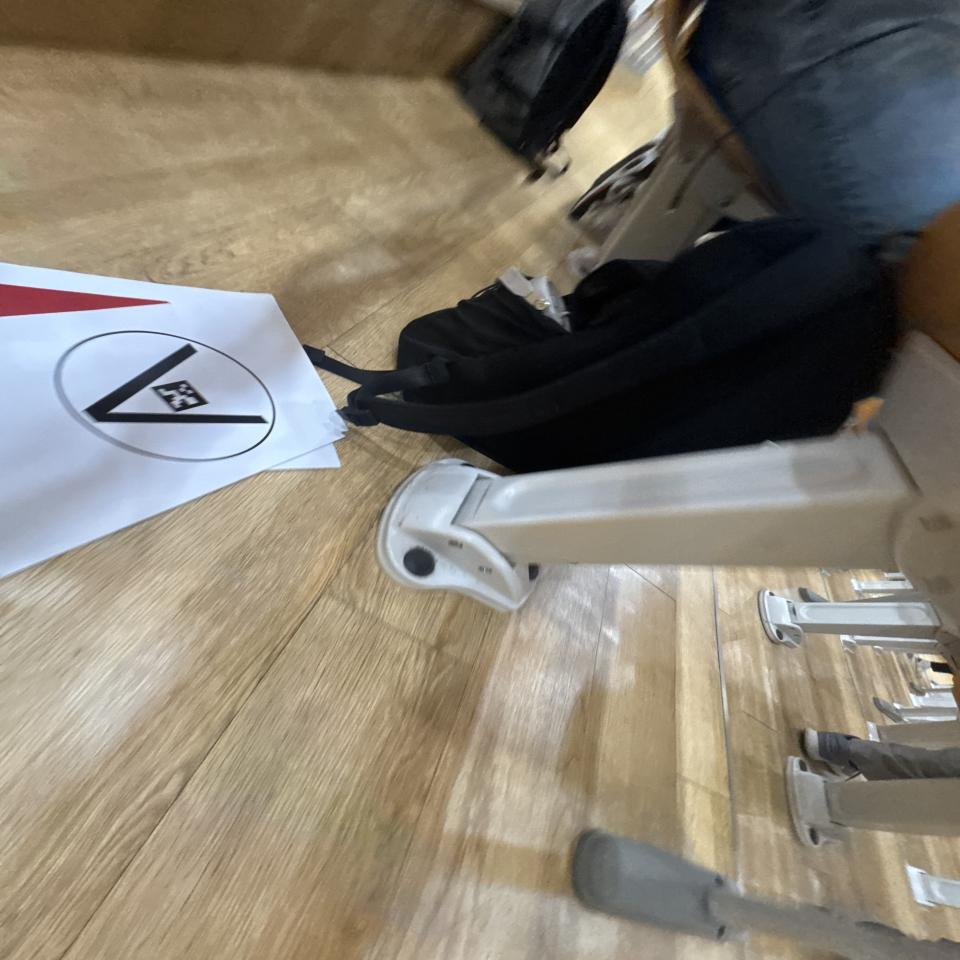vertiport: (52, 322, 287, 468)
